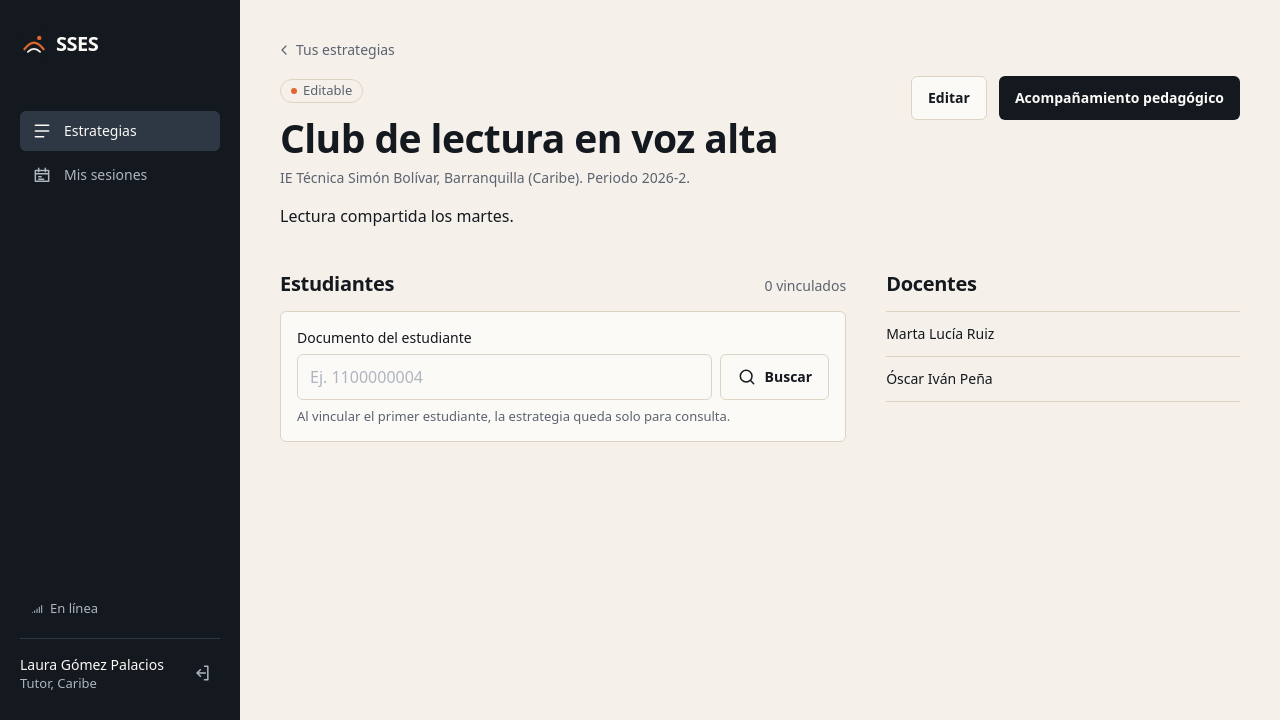
Test: Detalle de la estrategia › flujo alterno: el estudiante ya estaba vinculado
Type "1100000001" into the field labelled "Documento del estudiante". click: {"x": 504, "y": 377}
box: [297,354,712,400]
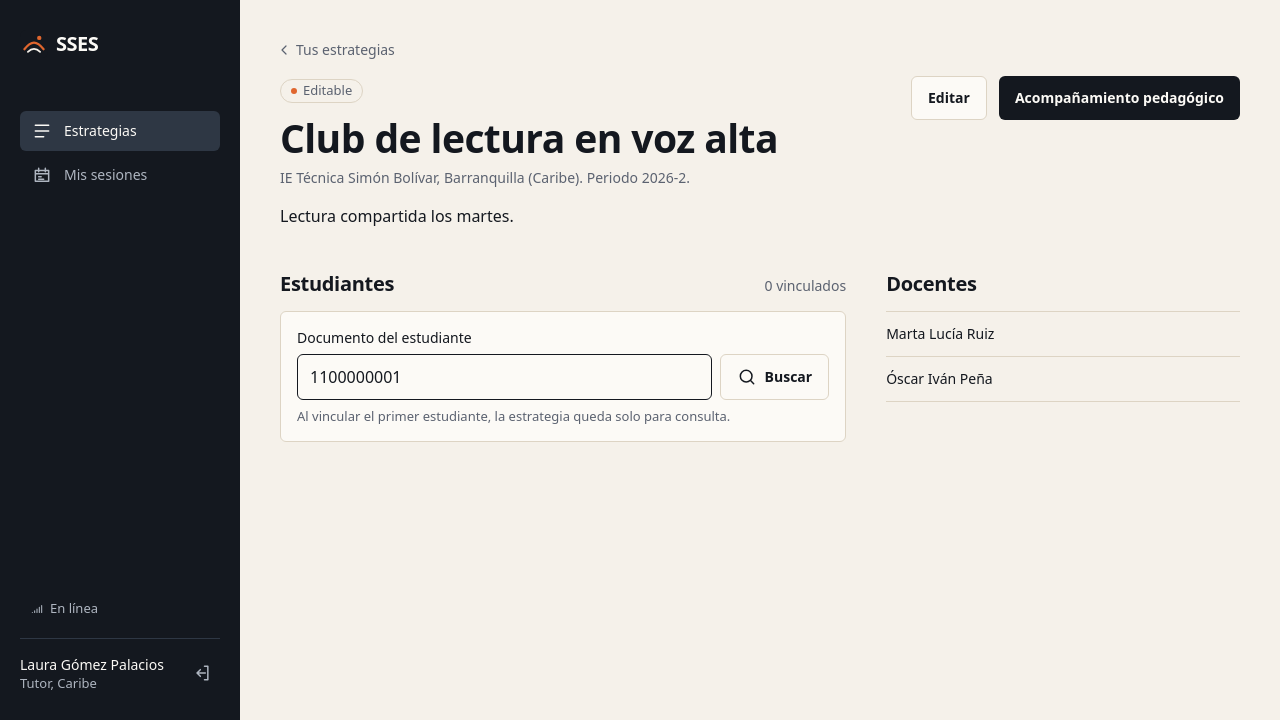
Click the button "Buscar". click: {"x": 774, "y": 377}
box: [720,354,829,400]
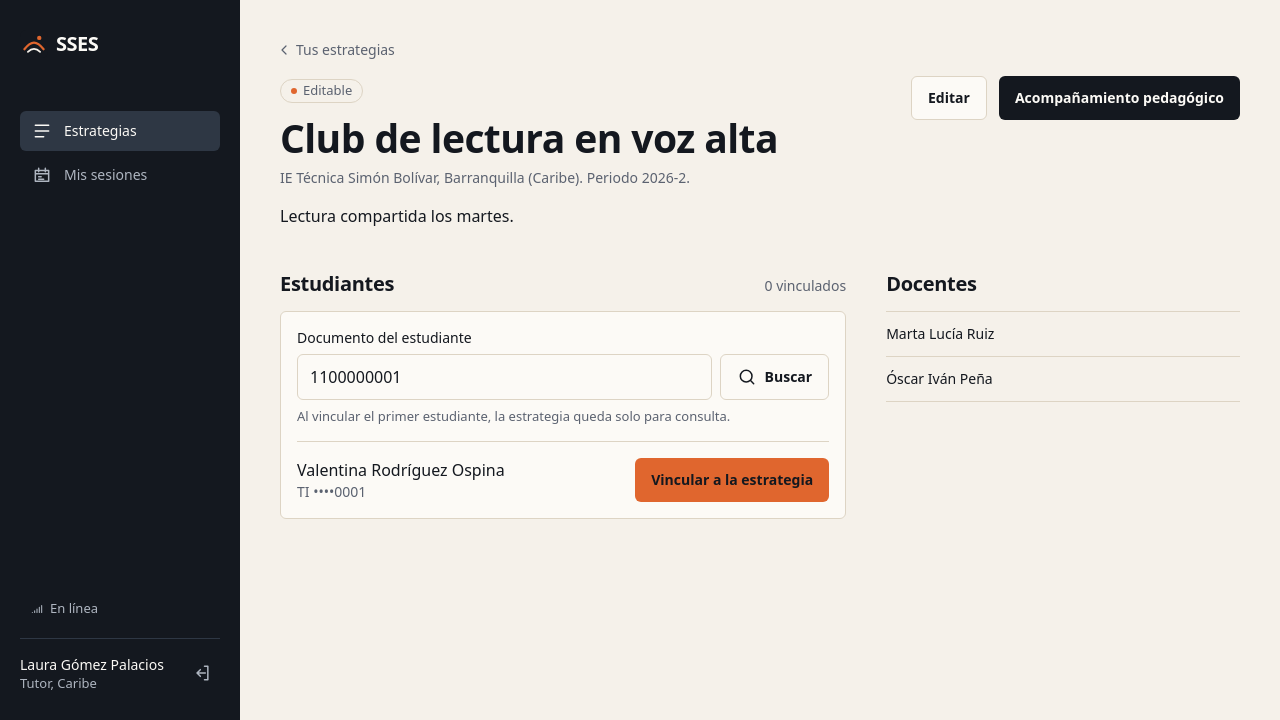
Click the button "Vincular a la estrategia". click: {"x": 732, "y": 480}
box: [635,458,829,502]
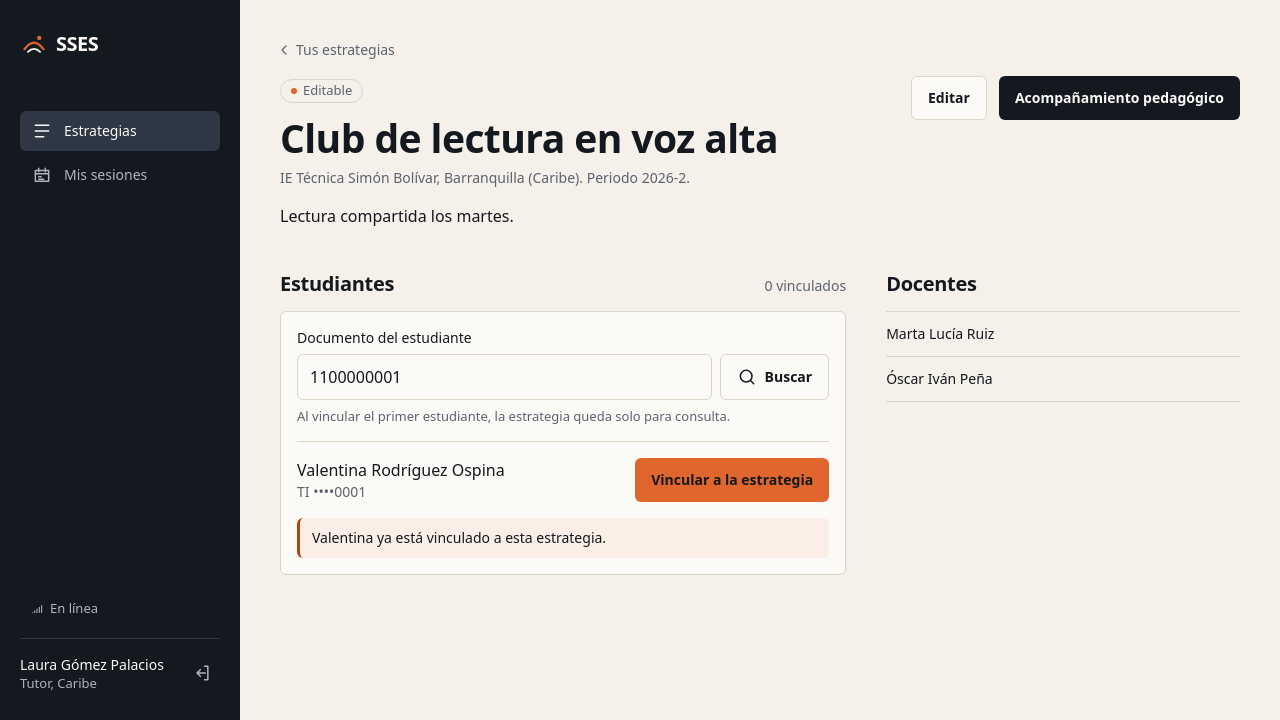
Result: the text "Valentina ya está vinculado a esta estrategia." is shown at [297,518,829,558]
